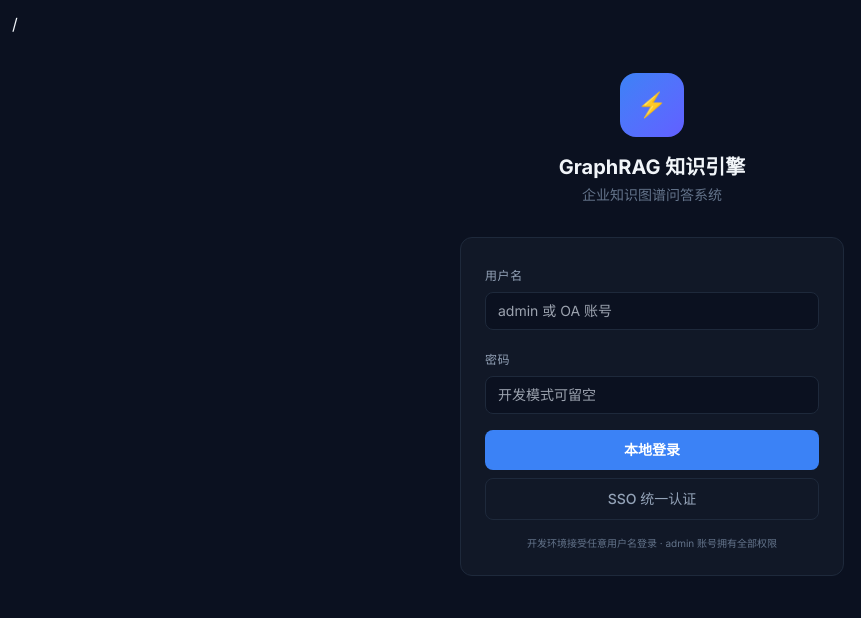
Test case: local and SSO failures reset loading and display safe messages bad
Step 1. Type "u" into the field with placeholder "admin 或 OA 账号" → (652, 310), box 485,292 -> 819,330
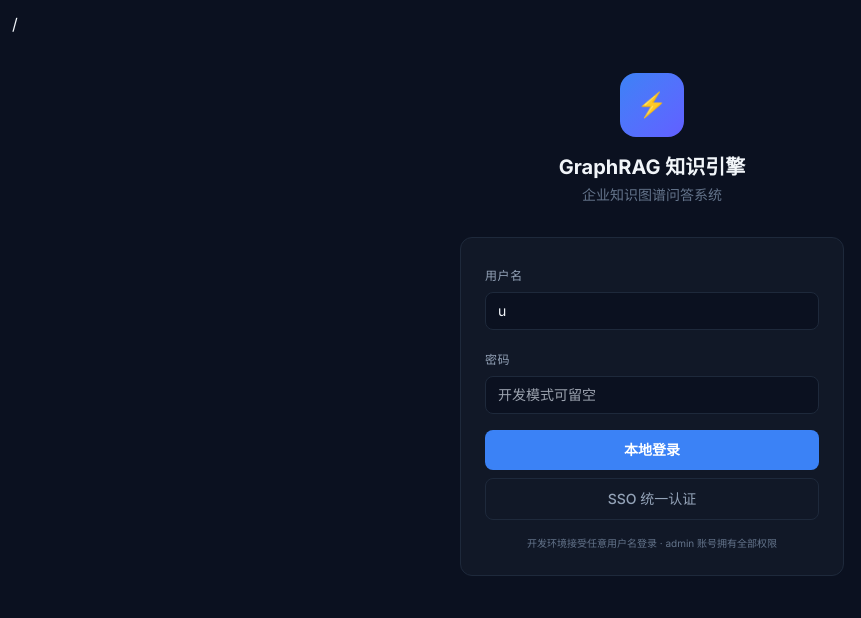
Step 2. Click the button "本地登录" → click(652, 450), box 485,430 -> 819,470
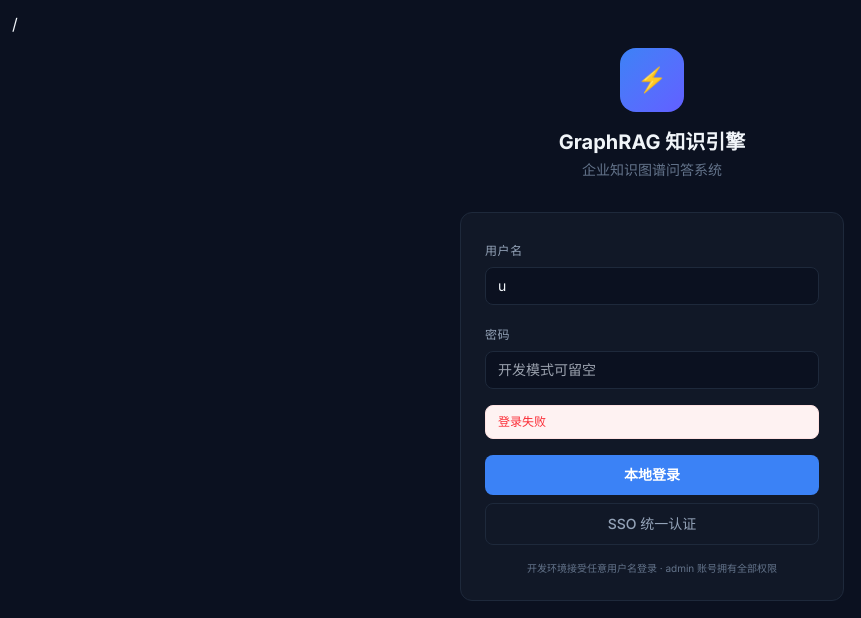
Expected: the text "登录失败" is shown, 485,404 -> 819,438
Step 3. Click the button "SSO 统一认证" → click(652, 524), box 485,502 -> 819,544
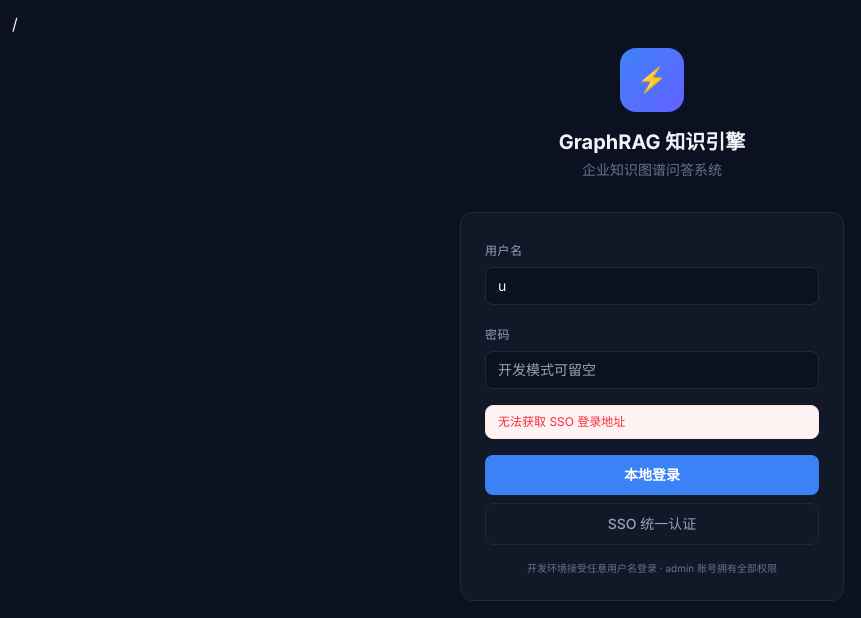
Expected: the button "本地登录" is enabled, 485,454 -> 819,494
Expected: the text "无法获取 SSO 登录地址" is shown, 485,404 -> 819,438
